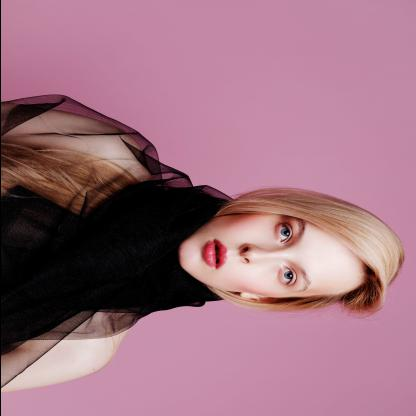Eye: (278, 266, 296, 286), (275, 223, 291, 244)
Mouth: (202, 239, 226, 269)
Nose: (238, 244, 282, 264)
